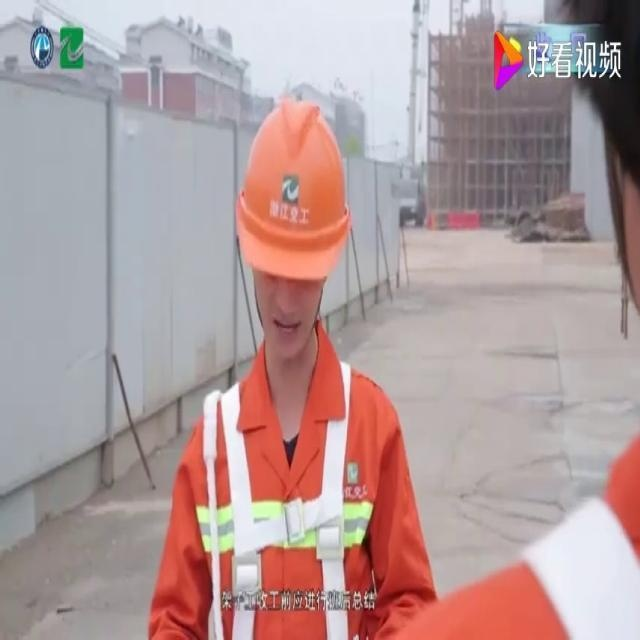Arnes_seguridad: (215, 347, 361, 639)
